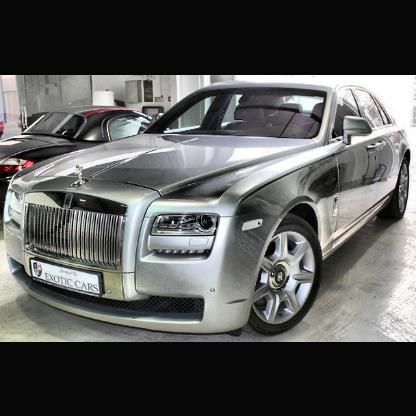Rolls-Royce Ghost Sedan 2012: (3, 82, 412, 338)
